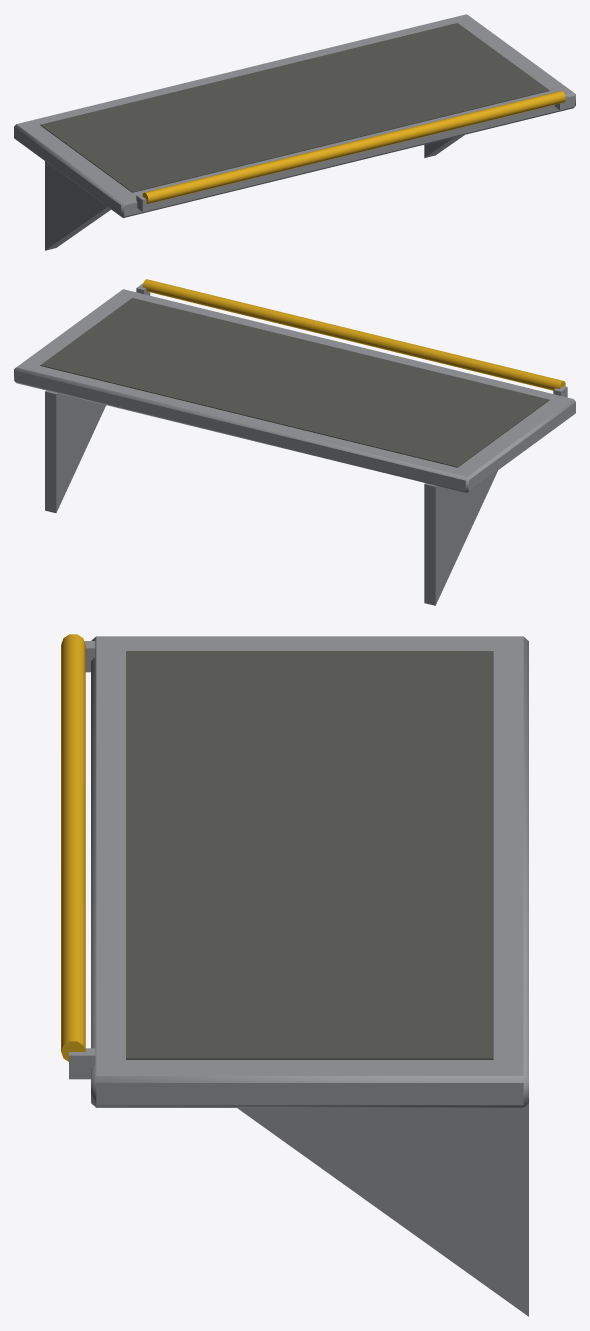
The model's file is SM_Banco_Trabajo.fbx.
The picture shows the model from 3 angles, top to bottom: view 1: azimuth 30°, elevation 25°; view 2: azimuth 150°, elevation 25°; view 3: azimuth 270°, elevation 25°; orthographic projection. The views are drawn at different scales.
Visible parts, largest first — view 1: SM_Banco_Trabajo; view 2: SM_Banco_Trabajo; view 3: SM_Banco_Trabajo.
Part boxes in pixels (left/top/right/bottom): SM_Banco_Trabajo: left=14, top=14, right=575, bottom=250; SM_Banco_Trabajo: left=14, top=279, right=575, bottom=605; SM_Banco_Trabajo: left=61, top=634, right=528, bottom=1316.
Size of the model in its own units: 1.2 by 0.3633 by 0.534.
